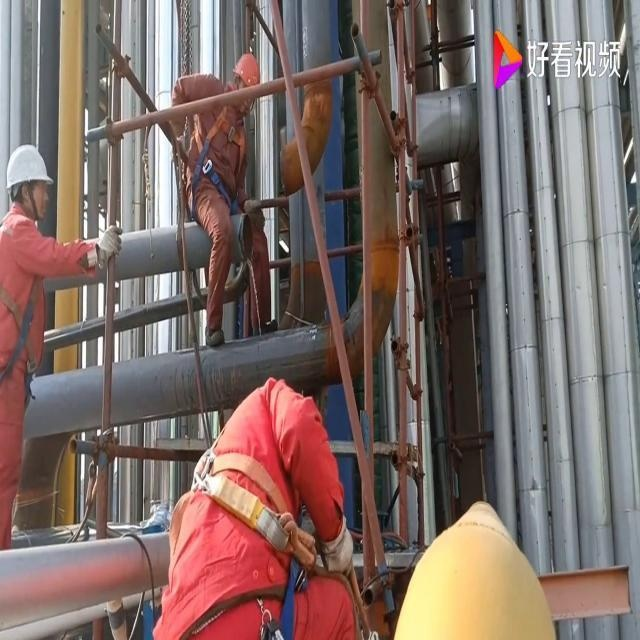Arnes_seguridad: (166, 411, 316, 581), (182, 84, 260, 216), (0, 209, 48, 398)
